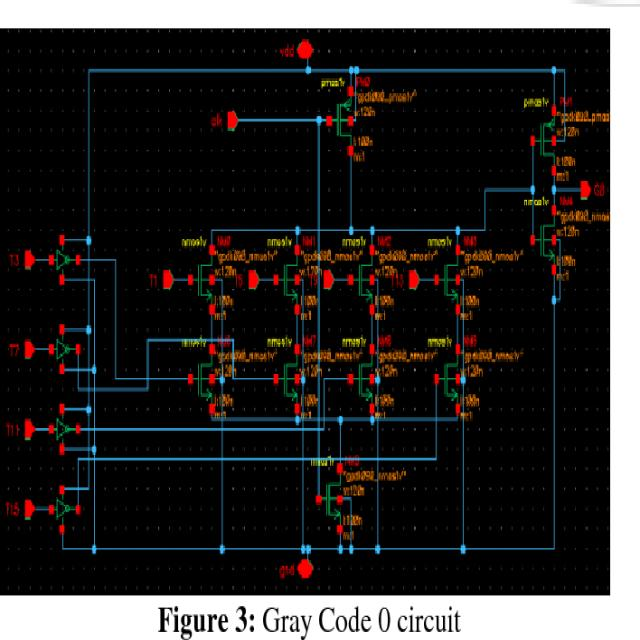inverter: (48, 235, 82, 289), (47, 323, 81, 377), (48, 404, 81, 458), (48, 484, 80, 534)
nmos: (178, 335, 216, 413), (264, 338, 302, 416), (265, 237, 302, 316), (180, 236, 216, 317), (341, 235, 376, 316), (341, 336, 377, 414), (426, 235, 461, 314), (522, 197, 557, 276), (426, 337, 461, 415), (309, 458, 343, 536)
pmos: (320, 79, 356, 159), (522, 99, 558, 177)
